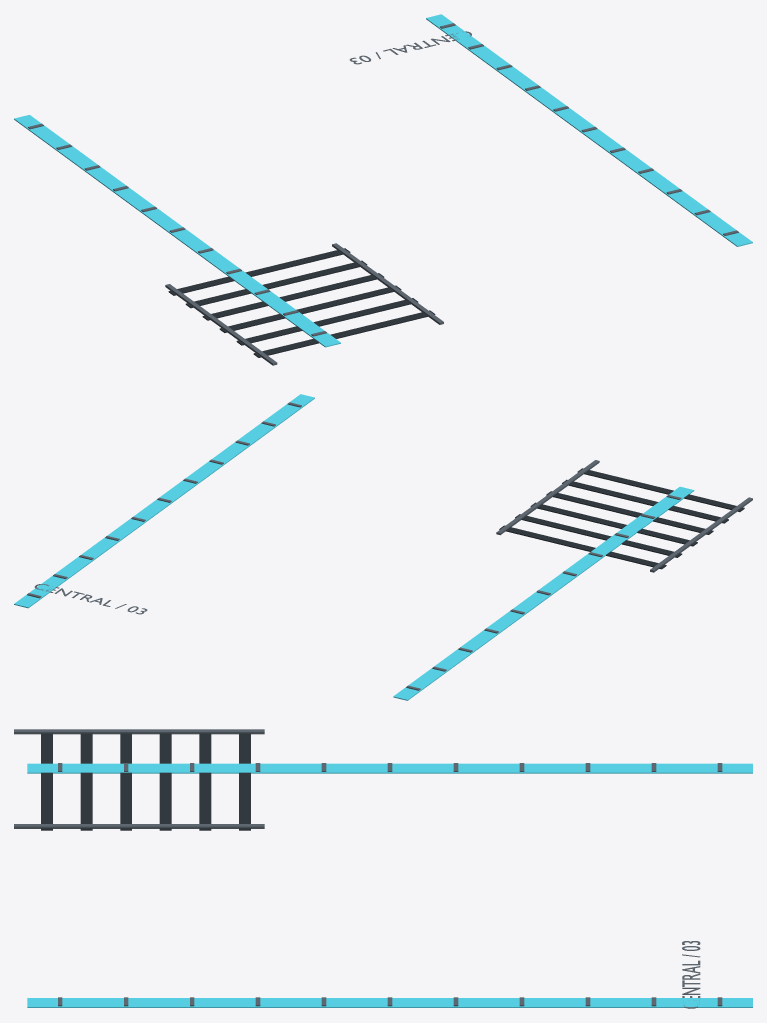
Rendered from 5_Room.fbx.
3 views of the same model, one above another, from view 1: azimuth 30°, elevation 25°; view 2: azimuth 150°, elevation 25°; view 3: azimuth 270°, elevation 25° (orthographic). The views are drawn at different scales.
Parts seen in each view (by area): view 1: Body; view 2: Body; view 3: Body.
Part boxes in pixels (x1,y1,x2,y2): Body: [14, 14, 752, 365]; Body: [14, 394, 752, 700]; Body: [14, 729, 752, 1008].
Size of the model in its own units: 10.02 by 0.044 by 11.2.
